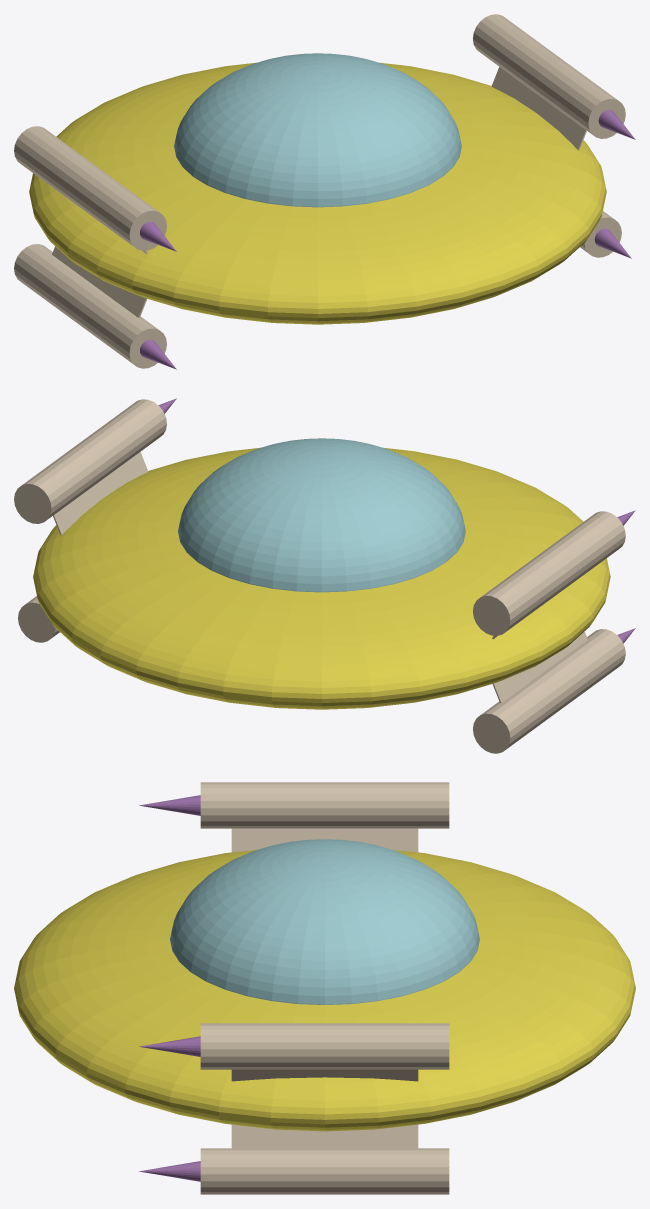
The model's file is enemy-ufo.glb.
3 views of the same model, one above another, from view 1: azimuth 30°, elevation 25°; view 2: azimuth 150°, elevation 25°; view 3: azimuth 270°, elevation 25° (orthographic). The views are drawn at different scales.
Visible parts, largest first — view 1: Mesh_Mesh_head_geo.001_lambert2SG.001; view 2: Mesh_Mesh_head_geo.001_lambert2SG.001; view 3: Mesh_Mesh_head_geo.001_lambert2SG.001.
Boxes of the visible parts, x1,y1,x2,y2 form: Mesh_Mesh_head_geo.001_lambert2SG.001: (14,14,635,369); Mesh_Mesh_head_geo.001_lambert2SG.001: (14,398,635,753); Mesh_Mesh_head_geo.001_lambert2SG.001: (14,782,635,1194).
Size of the model in its own units: 40 by 15 by 40.
